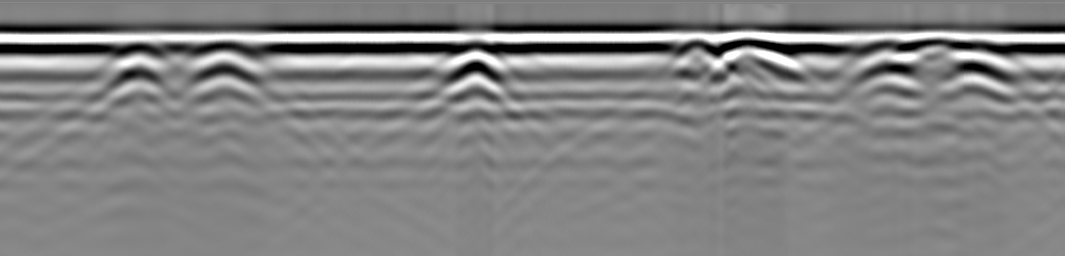pipe: (186, 41, 261, 85), (716, 36, 793, 78), (953, 37, 1015, 82), (110, 37, 166, 81), (445, 40, 508, 79), (670, 35, 723, 78), (860, 40, 919, 78), (912, 34, 954, 69)
